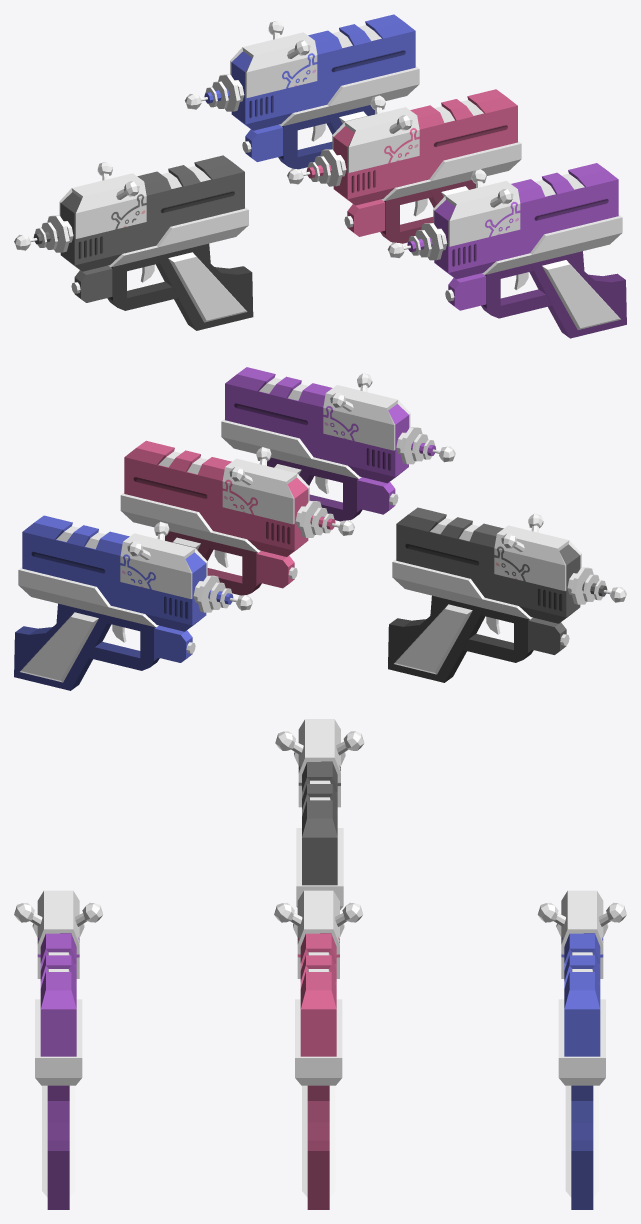
File: gun.fbx
The picture shows the model from 3 angles, top to bottom: view 1: azimuth 30°, elevation 25°; view 2: azimuth 150°, elevation 25°; view 3: azimuth 270°, elevation 25°; orthographic projection. The views are drawn at different scales.
Parts seen in each view (by area): view 1: pCylinder11, pCylinder8, pCylinder9, pCylinder10; view 2: pCylinder9, pCylinder8, pCylinder10, pCylinder11; view 3: pCylinder9, pCylinder11, pCylinder10, pCylinder8.
Part boxes in pixels (left/top/right/bottom): pCylinder11: left=387, top=163, right=626, bottom=338; pCylinder8: left=14, top=155, right=253, bottom=330; pCylinder9: left=185, top=14, right=419, bottom=169; pCylinder10: left=287, top=89, right=521, bottom=243; pCylinder9: left=14, top=515, right=252, bottom=690; pCylinder8: left=388, top=507, right=626, bottom=682; pCylinder10: left=120, top=440, right=354, bottom=595; pCylinder11: left=221, top=367, right=455, bottom=521; pCylinder9: left=537, top=890, right=626, bottom=1209; pCylinder11: left=14, top=890, right=103, bottom=1209; pCylinder10: left=274, top=890, right=363, bottom=1209; pCylinder8: left=275, top=719, right=364, bottom=909.
Size of the model in its own units: 22.81 by 7.49 by 18.54.
